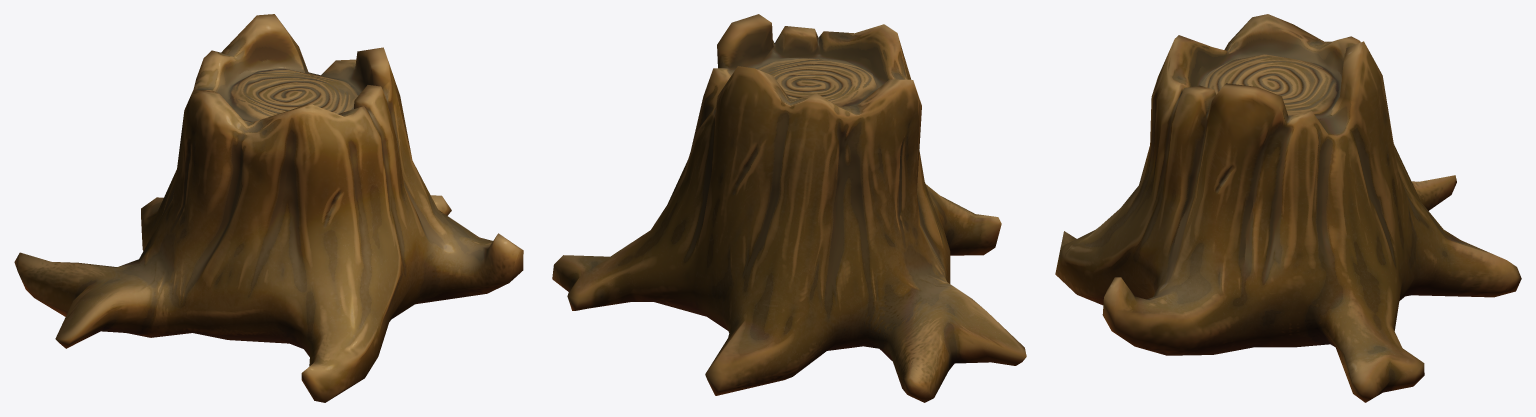
The model's file is stump.fbx.
The picture shows the model from 3 angles, left to right: view 1: azimuth 30°, elevation 25°; view 2: azimuth 150°, elevation 25°; view 3: azimuth 270°, elevation 25°; orthographic projection. The views are drawn at different scales.
Parts seen in each view (by area): view 1: Stump; view 2: Stump; view 3: Stump.
Part boxes in pixels (bbox=[...]): Stump: bbox=[14, 14, 523, 402]; Stump: bbox=[552, 14, 1026, 402]; Stump: bbox=[1055, 14, 1521, 402].
Bounding box in the file's own units: 100 × 60.2 × 90.45.
